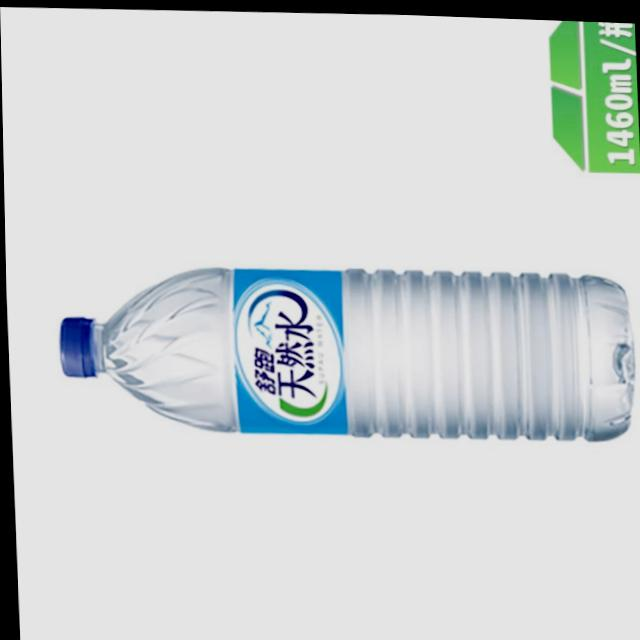anorganik: (51, 239, 637, 452)
